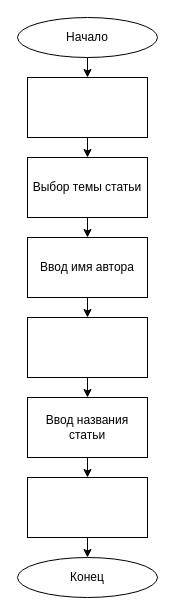
Some shapes in this 175 by 615 pixel diagram are drawn without their labels. The shapes that lost their labels are listed below. From the top down, each one's centre as x and y in pixels, then its label:
At point 87,107: "Выбор соответствующего пункта меню".
At point 87,347: "Выбор картинки для статьи".
At point 87,507: "Ввод текста статьи".
